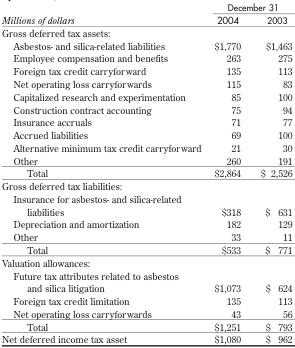table: (0, 1, 291, 344)
table column: (0, 1, 207, 344), (207, 1, 250, 344), (250, 1, 291, 344)
table column header: (0, 1, 291, 25)
table projected row header: (0, 25, 291, 38), (0, 191, 291, 204), (0, 255, 291, 268), (0, 268, 291, 281), (0, 179, 291, 191)
table row: (0, 25, 291, 38), (0, 38, 291, 51), (0, 51, 291, 64), (0, 76, 291, 89), (0, 89, 291, 102), (0, 102, 291, 115), (0, 115, 291, 128), (0, 140, 291, 153), (0, 153, 291, 166), (0, 166, 291, 179), (0, 191, 291, 204), (0, 204, 291, 217), (0, 217, 291, 230), (0, 242, 291, 255), (0, 255, 291, 268), (0, 268, 291, 281), (0, 281, 291, 294), (0, 306, 291, 319), (0, 319, 291, 332), (0, 1, 291, 13), (0, 13, 291, 25), (0, 64, 291, 76), (0, 128, 291, 140), (0, 179, 291, 191), (0, 230, 291, 242), (0, 294, 291, 306), (0, 332, 291, 344)
table spanning cell: (0, 1, 207, 25), (207, 1, 291, 13)
